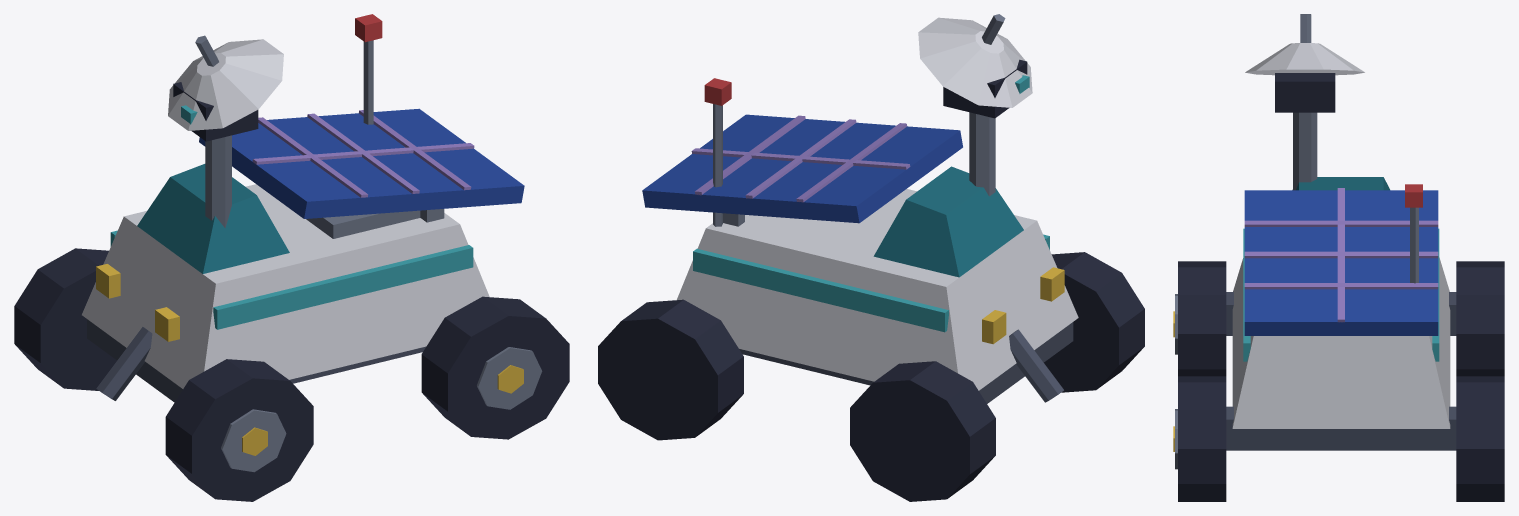
Rendered from Decor_Observatory_Rover.fbx.
3 renders of one model, left to right at view 1: azimuth 30°, elevation 25°; view 2: azimuth 150°, elevation 25°; view 3: azimuth 270°, elevation 25°, orthographic. The views are drawn at different scales.
Parts seen in each view (by area): view 1: Rover_Body; view 2: Rover_Body; view 3: Rover_Body.
Boxes of the visible parts, x1,y1,x2,y2 form: Rover_Body: (14, 14, 569, 501); Rover_Body: (598, 14, 1144, 501); Rover_Body: (1173, 14, 1504, 501).
Size of the model in its own units: 6.6 by 6.77 by 5.4.
